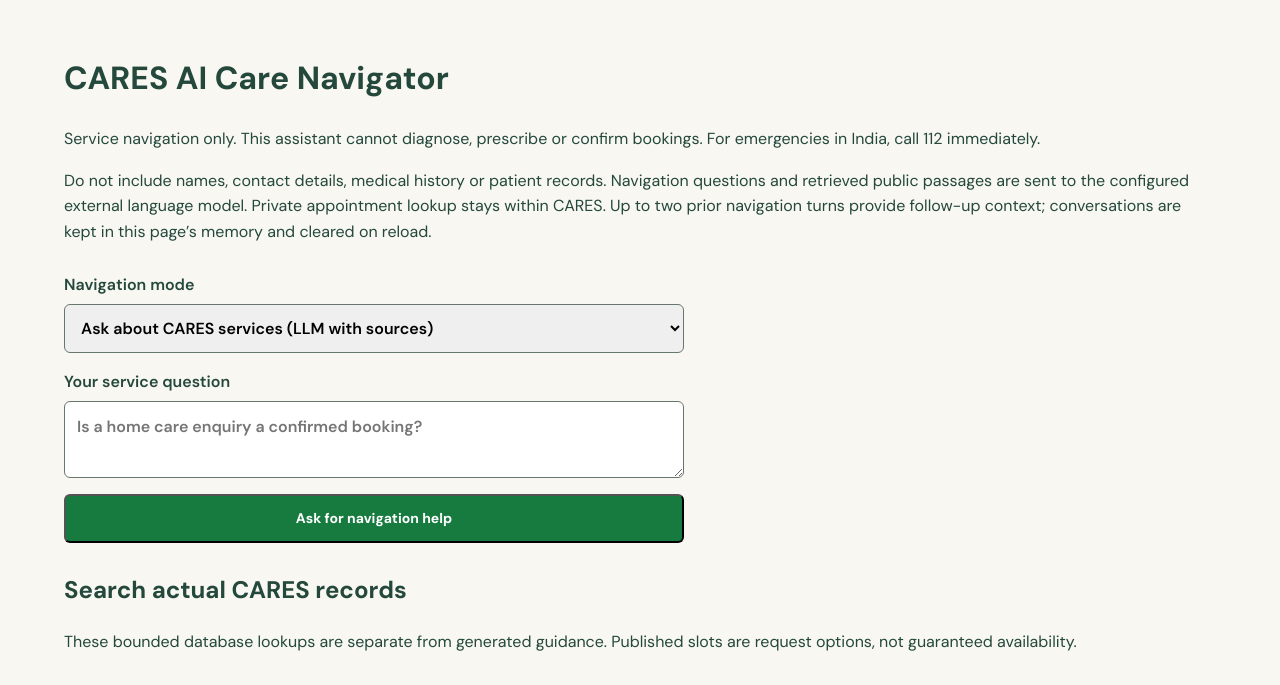
connects specialty prediction to actual providers and labels synthetic records
Select "CareMatch specialty intent (limited synthetic model)" in the dropdown labelled "Navigation mode" at (374, 328), box [64,304,684,353]
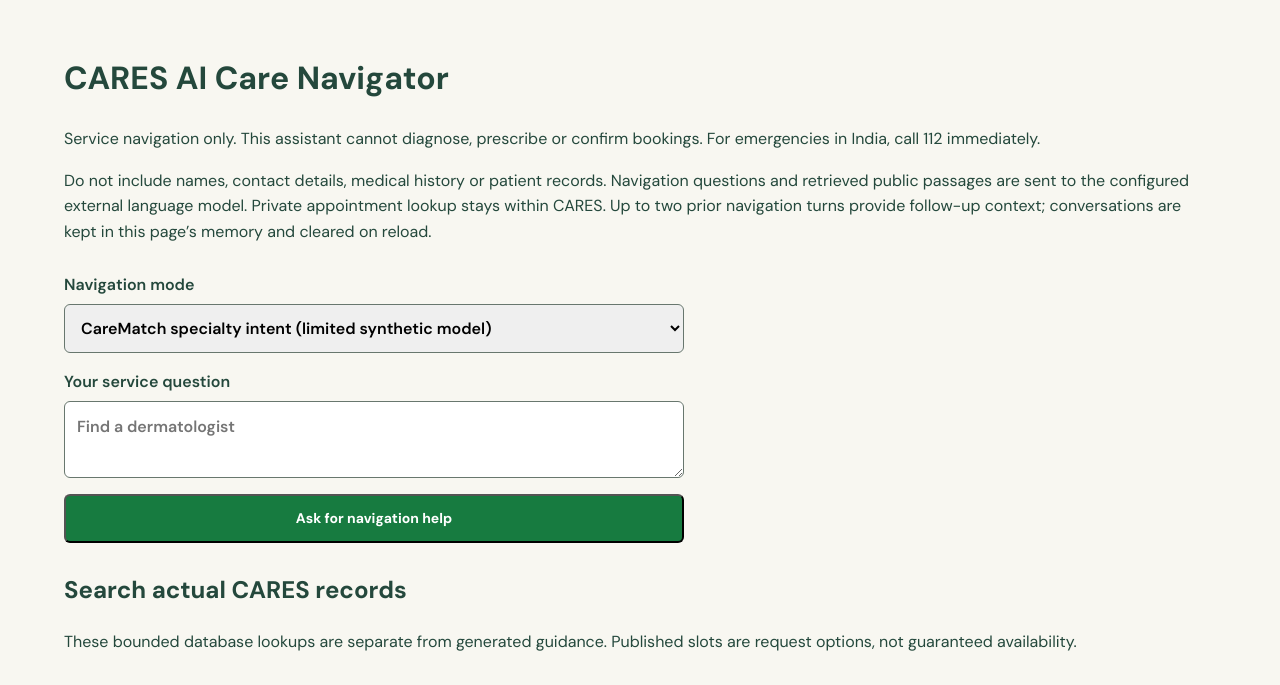
Type "Find a cardiologist" into the text box labelled "Your service question" at (374, 439), box [64,401,684,478]
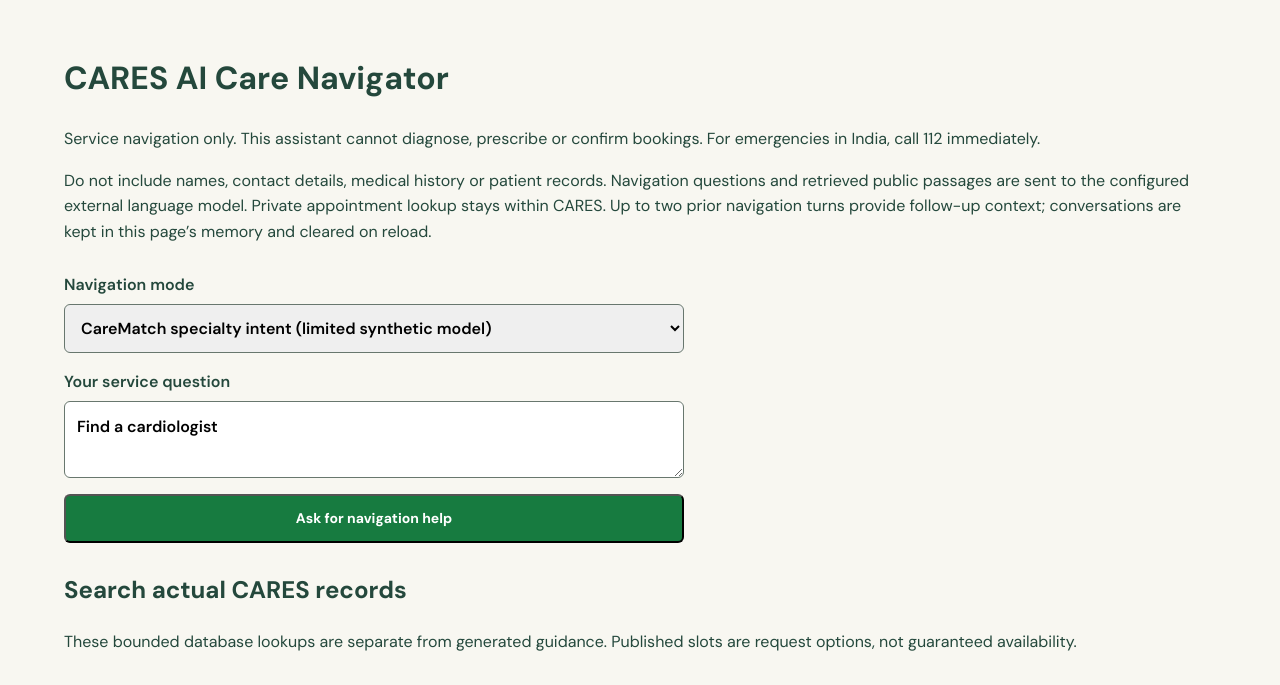
Click the button "Ask for navigation help" at (374, 518), box [64,494,684,543]
(page scrolled)
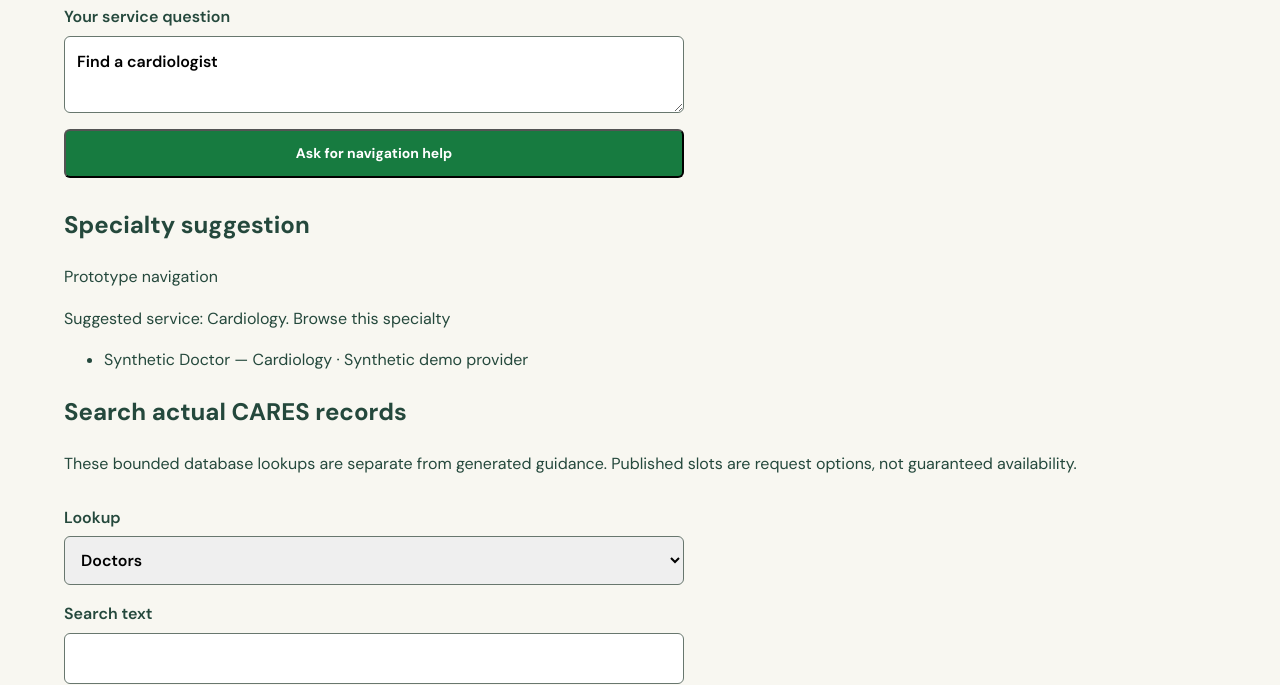
Expected: the list item "Synthetic Doctor — Cardiology · Synthetic demo provider" is shown, [104,349,528,370]
